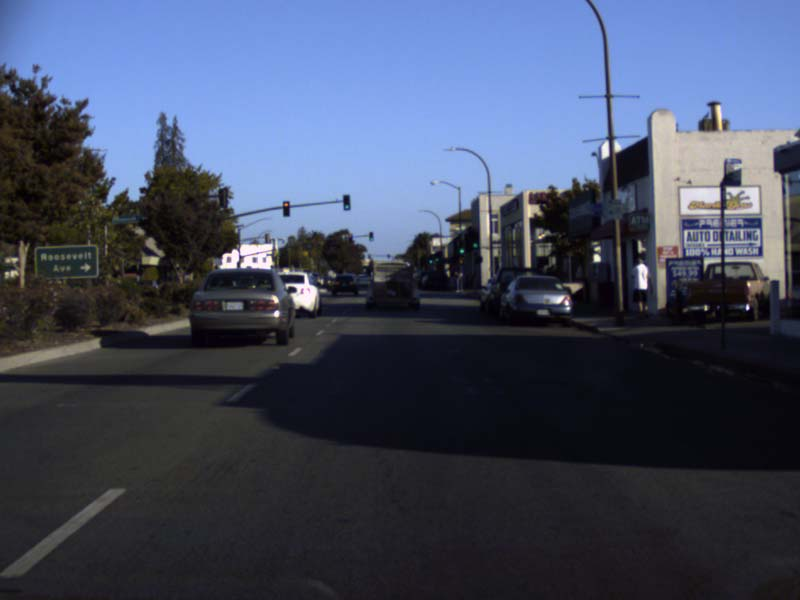Green: (343, 195, 350, 210), (471, 233, 478, 248), (458, 241, 464, 255), (428, 256, 432, 264), (369, 231, 372, 240), (435, 255, 438, 261)
Red: (282, 200, 289, 216), (348, 234, 351, 241)
